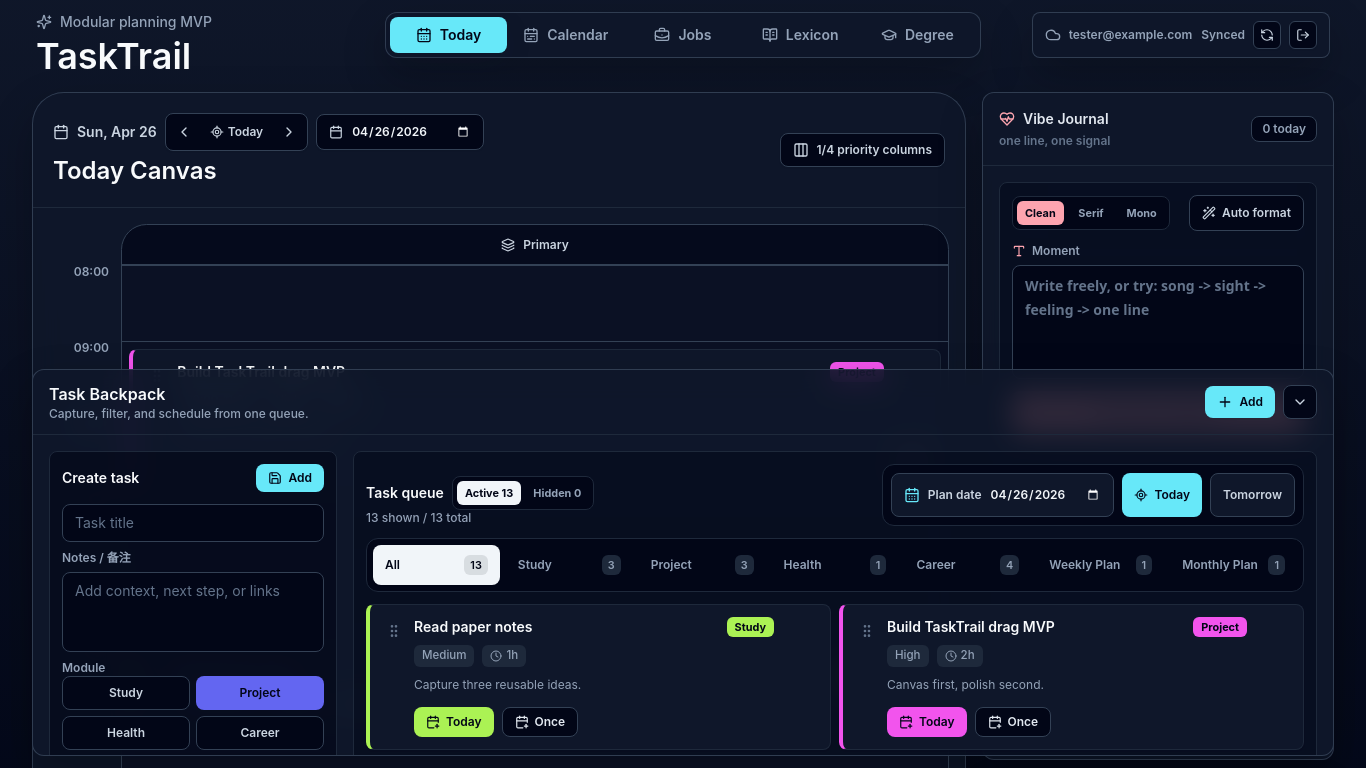
Test case: PlannerApp › refreshes cloud planner state on demand
Expected: the text "Synced" is shown, top-left (1201, 27), bottom-right (1245, 43)
Expected: the text "Remote desktop update" is not shown
Click the button named "Refresh sync" at (1267, 35), box top-left (1253, 21), bottom-right (1281, 49)
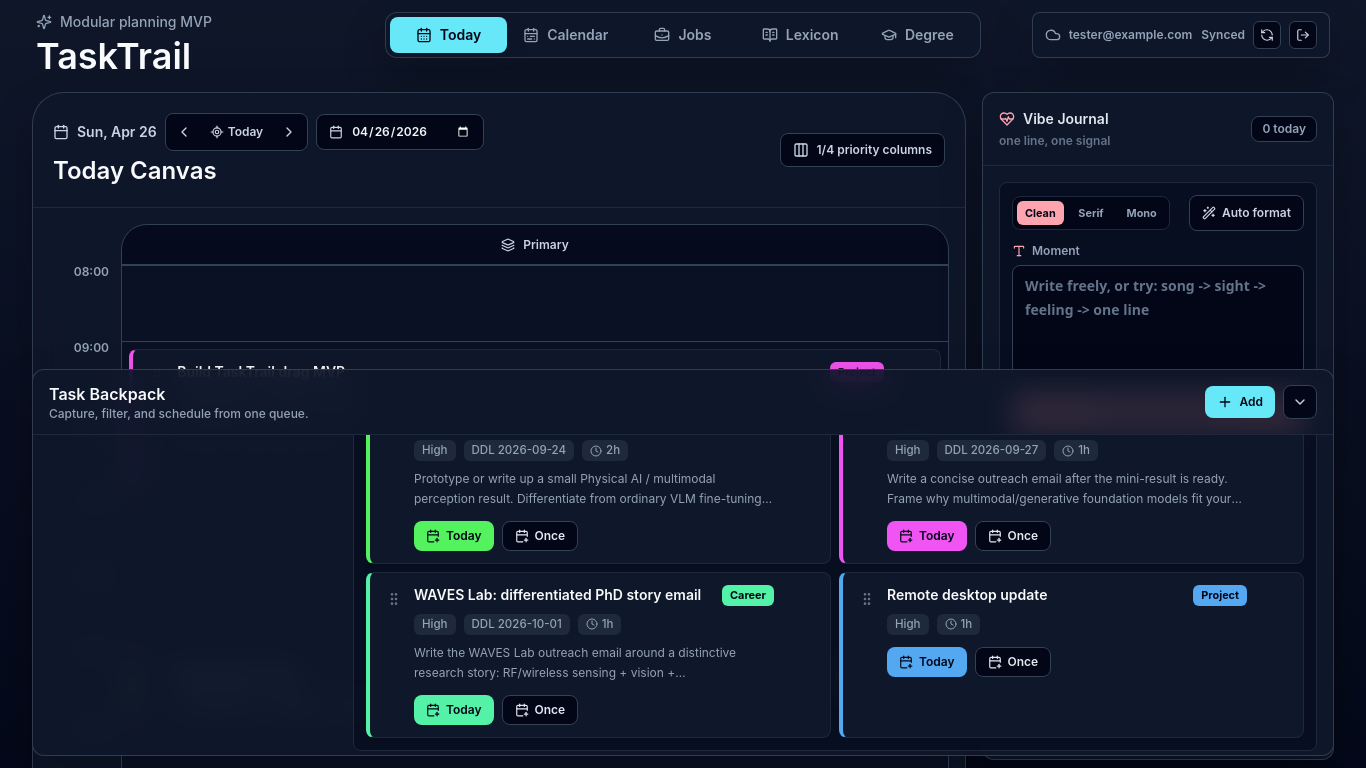
Result: the heading "Remote desktop update" is shown at top-left (887, 586), bottom-right (1047, 606)
